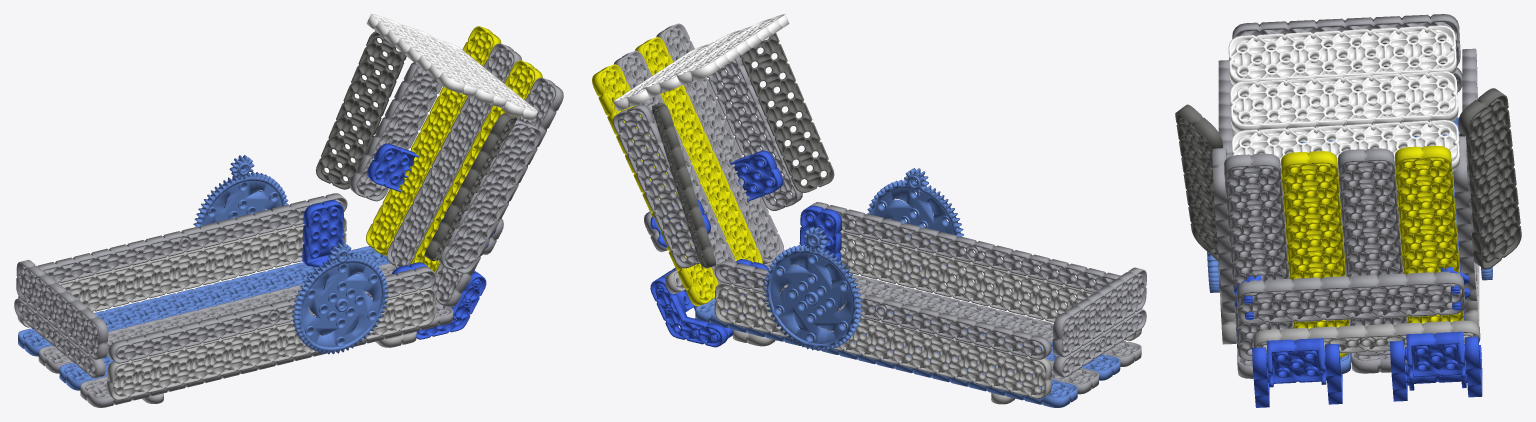
File: Tray V3.glb
3 renders of one model, left to right at view 1: azimuth 30°, elevation 25°; view 2: azimuth 150°, elevation 25°; view 3: azimuth 270°, elevation 25°, orthographic. The views are drawn at different scales.
Parts seen in each view (by area): view 1: 00031_228-2500-029.dat, 00026_228-2500-029.dat, 00032_228-2500-215.dat, 00027_228-2500-015.dat, 00007_228-2500-023.dat.002, 00002_228-2500-026.dat, 00017_228-2500-030.dat, 00028_228-2500-015.dat, 00007_228-2500-023.dat, 00001_228-2500-026.dat, 00006_228-2500-023.dat, 00029_228-2500-023.dat (+14 smaller); view 2: 00026_228-2500-029.dat, 00031_228-2500-029.dat, 00033_228-2500-215.dat, 00028_228-2500-015.dat, 00007_228-2500-023.dat.001, 00027_228-2500-015.dat, 00003_228-2500-026.dat, 00006_228-2500-023.dat, 00004_228-2500-026.dat, 00007_228-2500-023.dat, 00029_228-2500-023.dat, 00023_228-2500-030.dat (+14 smaller); view 3: 00006_228-2500-023.dat.002, 00006_228-2500-023.dat.003, 00005_228-2500-023.dat, 00004_228-2500-026.dat, 00007_228-2500-023.dat.002, 00002_228-2500-026.dat, 00003_228-2500-026.dat, 00001_228-2500-026.dat, 00006_228-2500-023.dat.001, 00007_228-2500-023.dat.001, 00010_228-2500-007-v2.dat, 00029_228-2500-023.dat (+17 smaller).
Boxes of the visible parts, x1,y1,x2,y2 form: 00031_228-2500-029.dat: [106, 287, 435, 400]; 00026_228-2500-029.dat: [17, 217, 346, 327]; 00032_228-2500-215.dat: [292, 254, 388, 354]; 00027_228-2500-015.dat: [38, 193, 347, 282]; 00007_228-2500-023.dat.002: [316, 31, 406, 189]; 00002_228-2500-026.dat: [386, 43, 521, 267]; 00017_228-2500-030.dat: [18, 246, 390, 356]; 00028_228-2500-015.dat: [107, 266, 436, 363]; 00007_228-2500-023.dat: [438, 119, 541, 273]; 00001_228-2500-026.dat: [366, 26, 501, 255]; 00006_228-2500-023.dat: [349, 62, 442, 201]; 00029_228-2500-023.dat: [16, 260, 108, 359]; 00026_228-2500-029.dat: [714, 282, 1052, 398]; 00031_228-2500-029.dat: [820, 227, 1142, 340]; 00033_228-2500-215.dat: [763, 244, 862, 350]; 00028_228-2500-015.dat: [809, 202, 1120, 292]; 00007_228-2500-023.dat.001: [740, 33, 834, 192]; 00027_228-2500-015.dat: [714, 260, 1051, 359]; 00003_228-2500-026.dat: [635, 37, 762, 263]; 00006_228-2500-023.dat: [613, 104, 713, 268]; 00004_228-2500-026.dat: [656, 23, 784, 264]; 00007_228-2500-023.dat: [707, 56, 802, 210]; 00029_228-2500-023.dat: [1052, 267, 1146, 357]; 00023_228-2500-030.dat: [765, 262, 1141, 366]; 00006_228-2500-023.dat.002: [1230, 71, 1458, 132]; 00006_228-2500-023.dat.003: [1228, 25, 1456, 84]; 00005_228-2500-023.dat: [1237, 271, 1465, 323]; 00004_228-2500-026.dat: [1224, 153, 1293, 361]; 00007_228-2500-023.dat.002: [1458, 88, 1521, 269]; 00002_228-2500-026.dat: [1338, 148, 1406, 356]; 00003_228-2500-026.dat: [1281, 151, 1349, 357]; 00001_228-2500-026.dat: [1395, 145, 1463, 323]; 00006_228-2500-023.dat.001: [1231, 120, 1459, 180]; 00007_228-2500-023.dat.001: [1175, 104, 1222, 261]; 00010_228-2500-007-v2.dat: [1253, 320, 1480, 353]; 00029_228-2500-023.dat: [1232, 14, 1460, 74].
Size of the model in its own units: 8.26 by 4.57 by 3.89.
